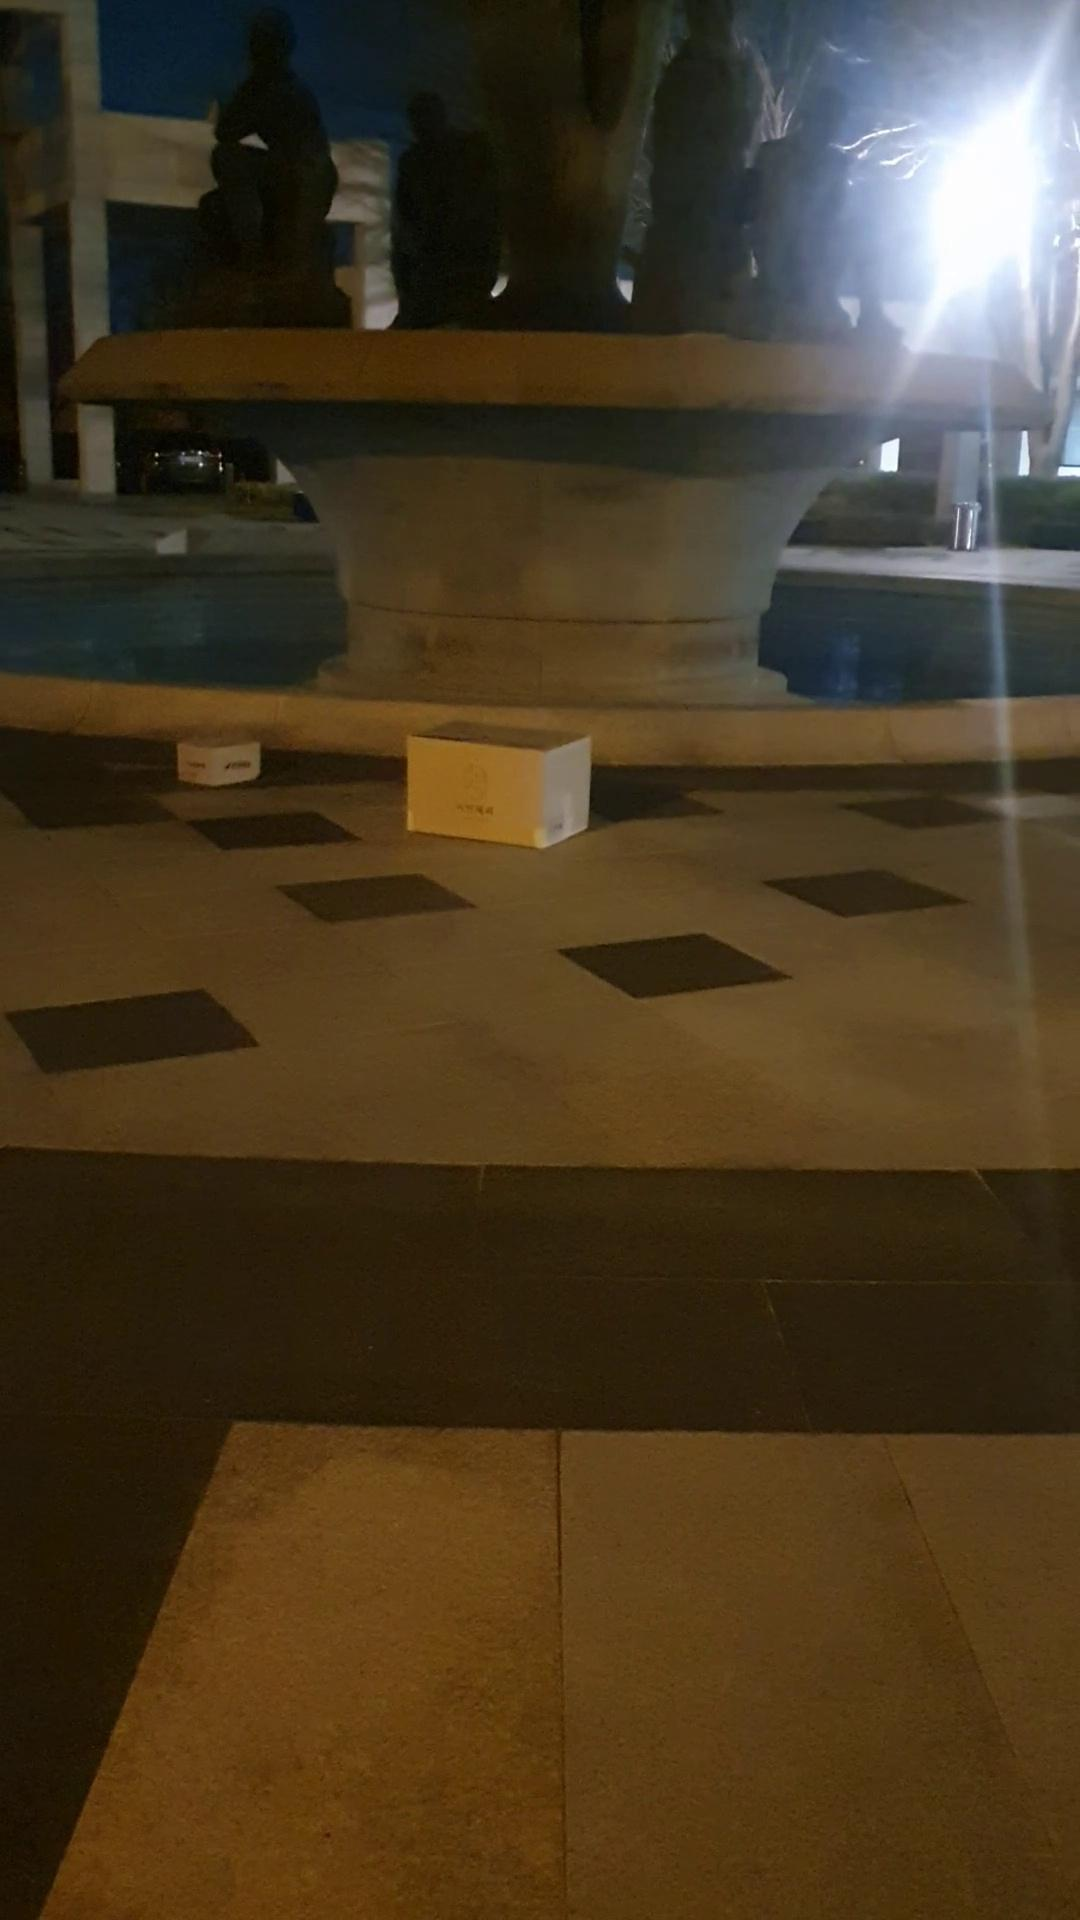Box: (392, 713, 589, 853), (171, 717, 268, 789)
